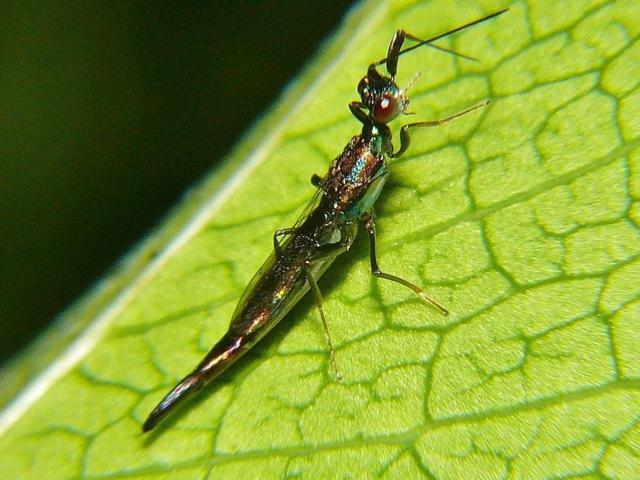tiny_pests: (93, 0, 541, 458)
